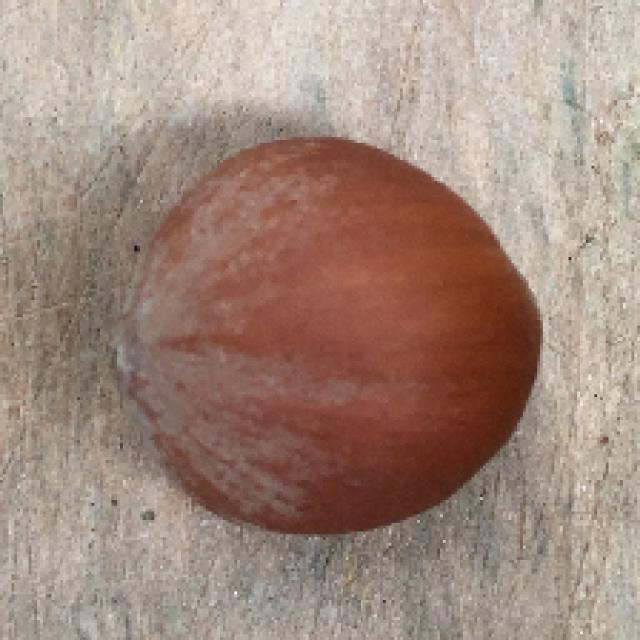hazelnut: (103, 132, 550, 538)
